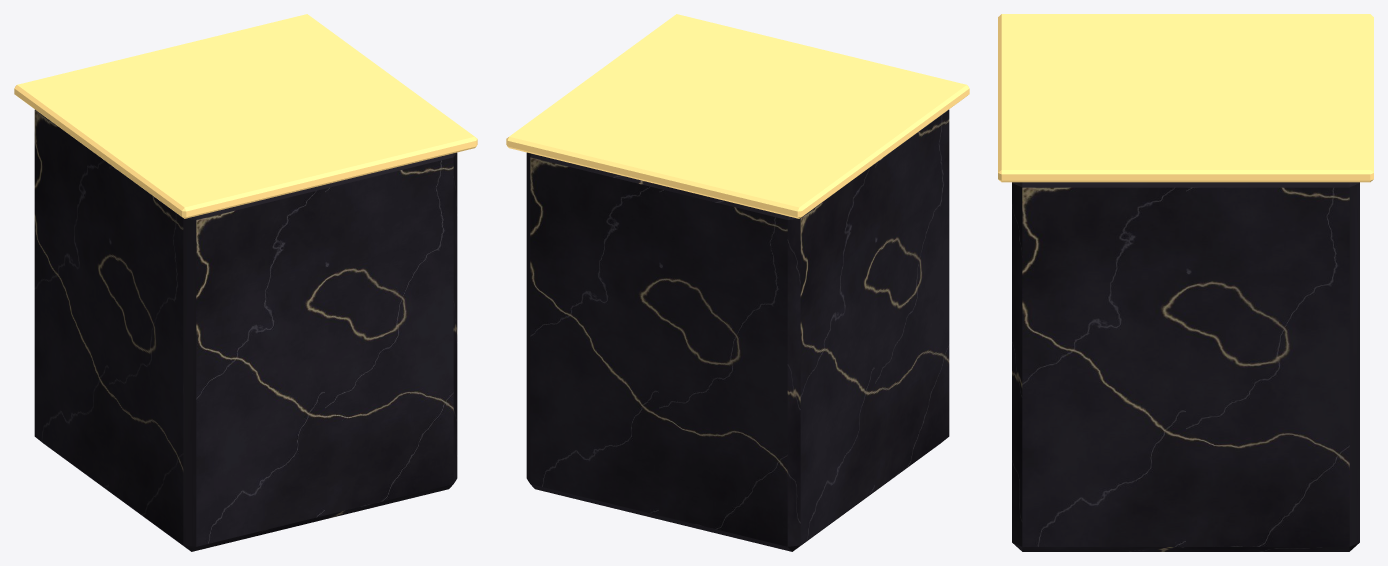
The model's file is tb_pedestal.glb.
3 views of the same model, side by side, from view 1: azimuth 30°, elevation 25°; view 2: azimuth 150°, elevation 25°; view 3: azimuth 270°, elevation 25° (orthographic). The views are drawn at different scales.
Parts seen in each view (by area): view 1: tb_pedestal; view 2: tb_pedestal; view 3: tb_pedestal.
Part boxes in pixels (left/top/right/bottom): tb_pedestal: left=14, top=14, right=477, bottom=551; tb_pedestal: left=506, top=14, right=969, bottom=551; tb_pedestal: left=998, top=14, right=1373, bottom=551.
Size of the model in its own units: 1.08 by 1.24 by 1.08.
Materials: 2 (1 with a texture image).
